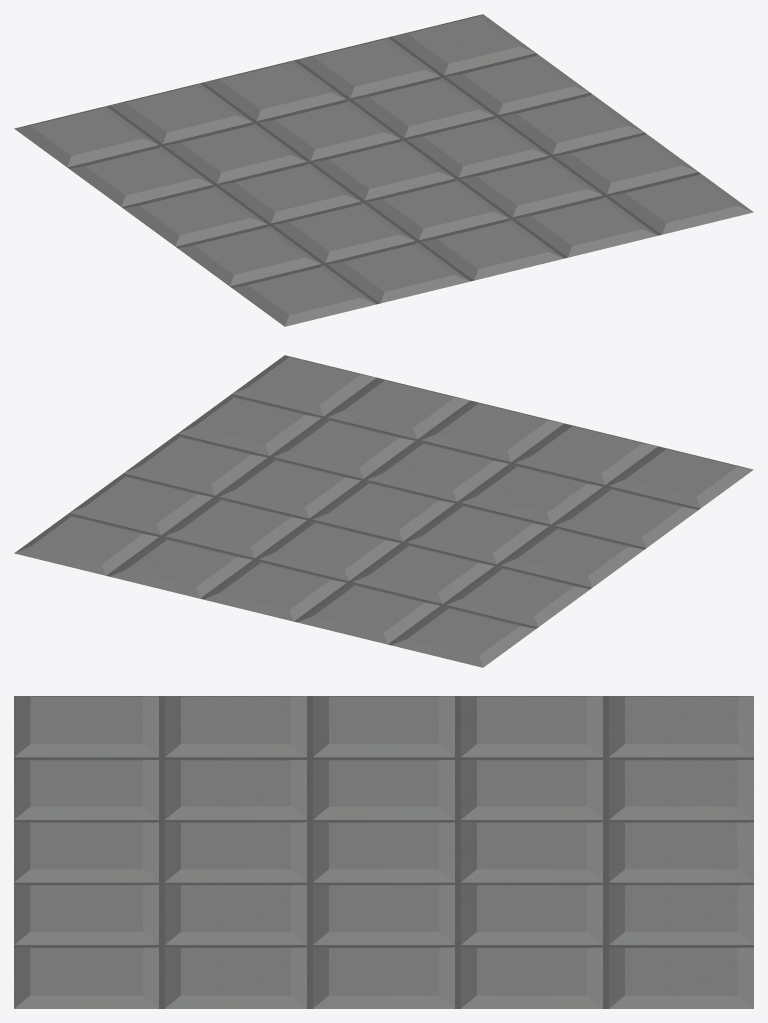
File: Floor_3.fbx
3 renders of one model, top to bottom at view 1: azimuth 30°, elevation 25°; view 2: azimuth 150°, elevation 25°; view 3: azimuth 270°, elevation 25°, orthographic. The views are drawn at different scales.
Parts seen in each view (by area): view 1: Floor 3; view 2: Floor 3; view 3: Floor 3.
Part boxes in pixels (left/top/right/bottom): Floor 3: left=14, top=14, right=753, bottom=326; Floor 3: left=14, top=355, right=753, bottom=667; Floor 3: left=14, top=696, right=753, bottom=1008.
Bounding box in the file's own units: 280 × 2.7 × 280.
